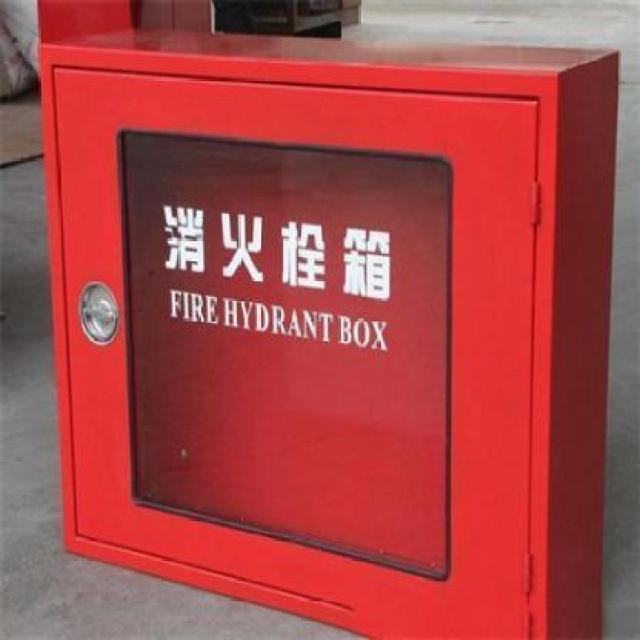firehydrant: (36, 18, 624, 640)
